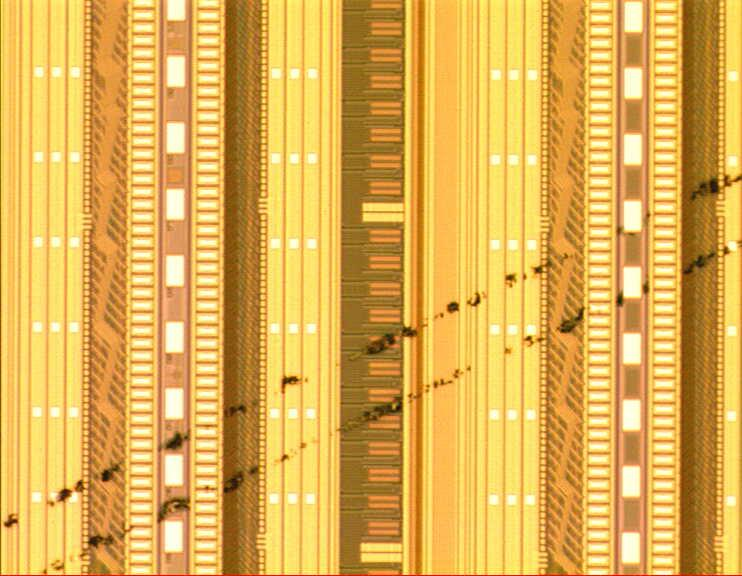SCRATCH: (1, 152, 742, 576)
